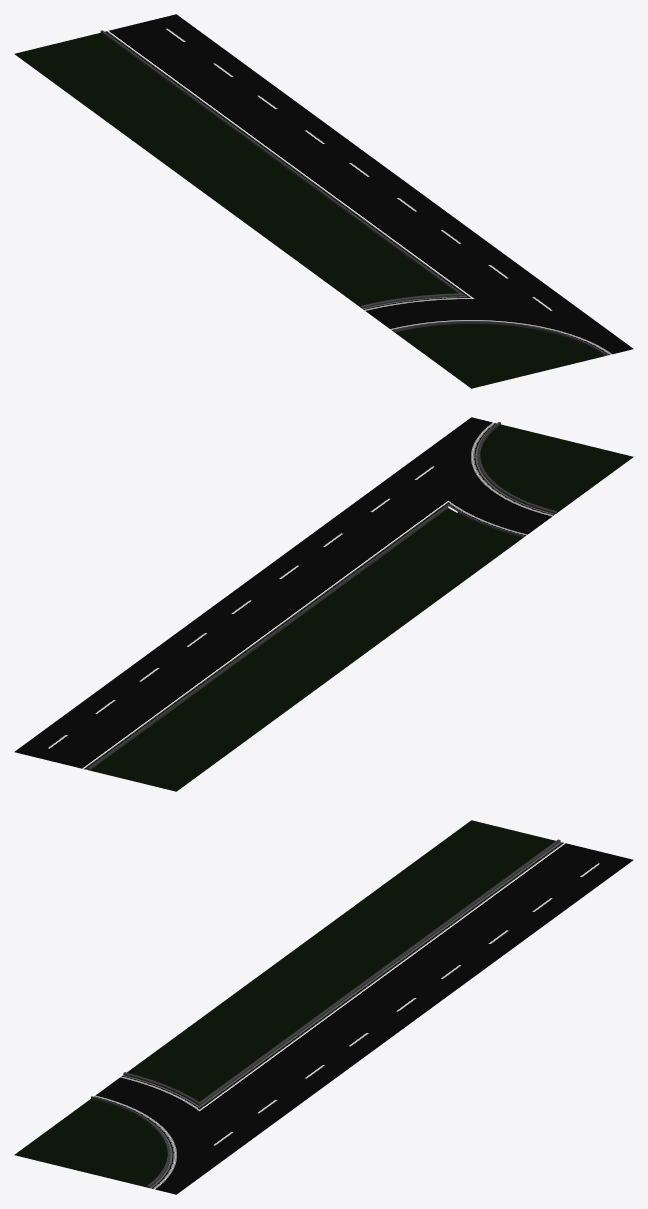
Rendered from uturn-3L.fbx.
3 renders of one model, top to bottom at view 1: azimuth 30°, elevation 25°; view 2: azimuth 150°, elevation 25°; view 3: azimuth 330°, elevation 25°, orthographic.
Parts seen in each view (by area): view 1: 2R回转; view 2: 2R回转; view 3: 2R回转.
Boxes of the visible parts, left/top/right/bottom form: 2R回转: left=14, top=14, right=633, bottom=388; 2R回转: left=14, top=417, right=633, bottom=791; 2R回转: left=14, top=820, right=633, bottom=1194.
Size of the model in its own units: 1313 by 15 by 6400.
